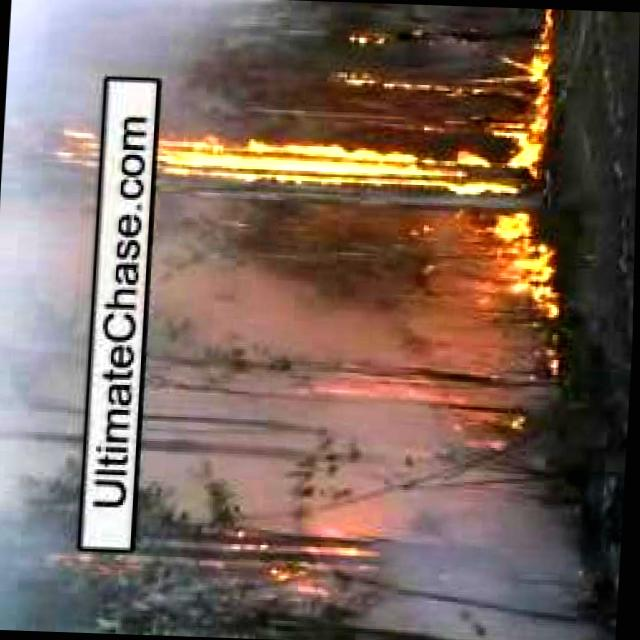helmet: (156, 136, 548, 186), (348, 10, 561, 90), (485, 215, 571, 312), (257, 526, 376, 590)
no_helmet: (149, 257, 589, 533), (0, 0, 105, 632), (374, 524, 612, 640)
